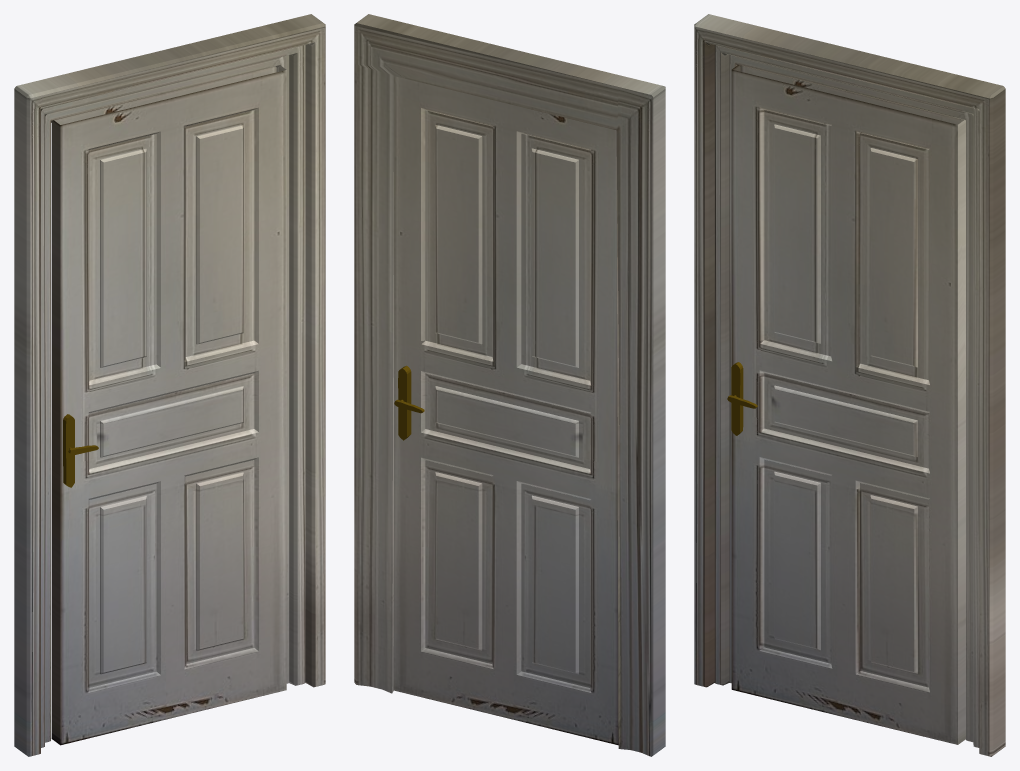
The model's file is door.fbx.
3 renders of one model, left to right at view 1: azimuth 30°, elevation 25°; view 2: azimuth 150°, elevation 25°; view 3: azimuth 330°, elevation 25°, orthographic.
Visible parts, largest first — view 1: door, frame; view 2: door, frame; view 3: door, frame.
Part boxes in pixels (left/top/right/bottom): door: left=51, top=65, right=286, bottom=745; frame: left=14, top=14, right=325, bottom=756; door: left=393, top=76, right=618, bottom=745; frame: left=354, top=14, right=665, bottom=756; door: left=727, top=64, right=965, bottom=744; frame: left=694, top=14, right=1005, bottom=756.
Bounding box in the file's own units: 218 × 460 × 32.58.
